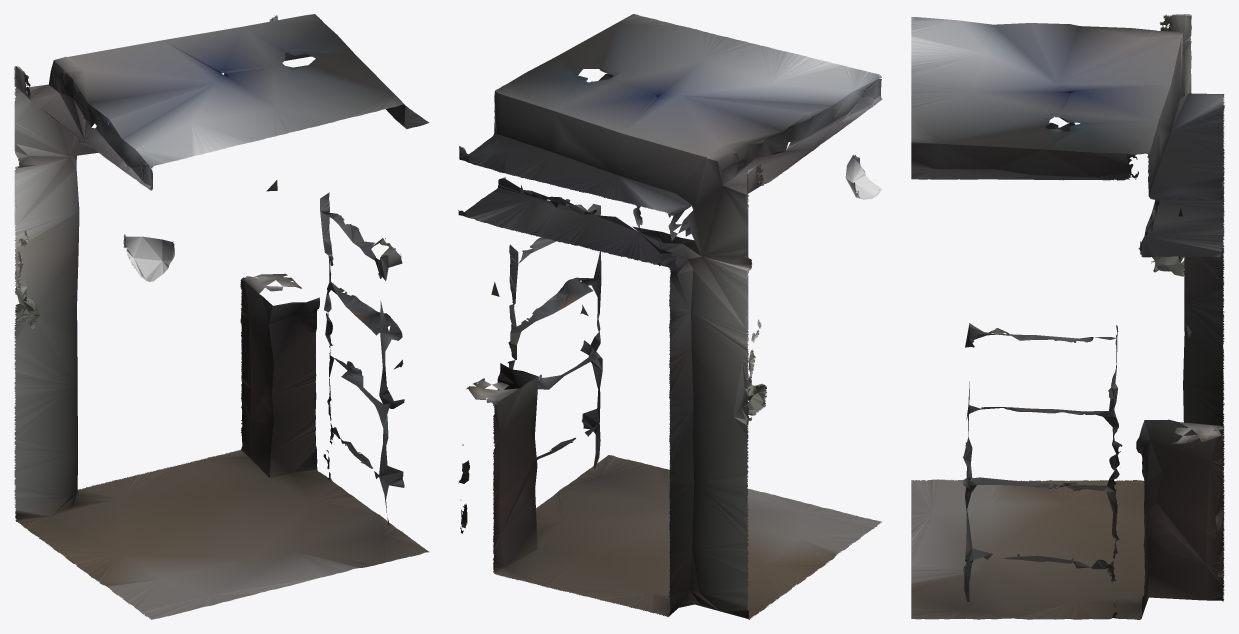
The model's file is coarse.glb.
The picture shows the model from 3 angles, left to right: view 1: azimuth 30°, elevation 25°; view 2: azimuth 150°, elevation 25°; view 3: azimuth 270°, elevation 25°; orthographic projection. The views are drawn at different scales.
Bounding box in the file's own units: 1.97 × 3.09 × 1.87.
